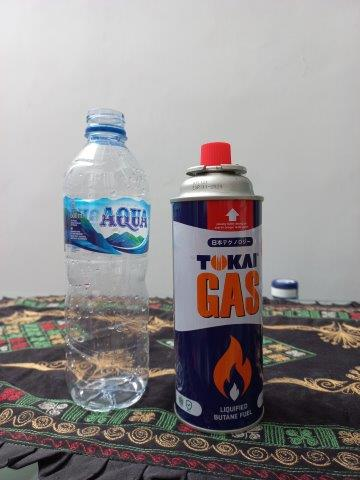botolplastik: (65, 109, 146, 412)
kaleng: (171, 140, 264, 429)
